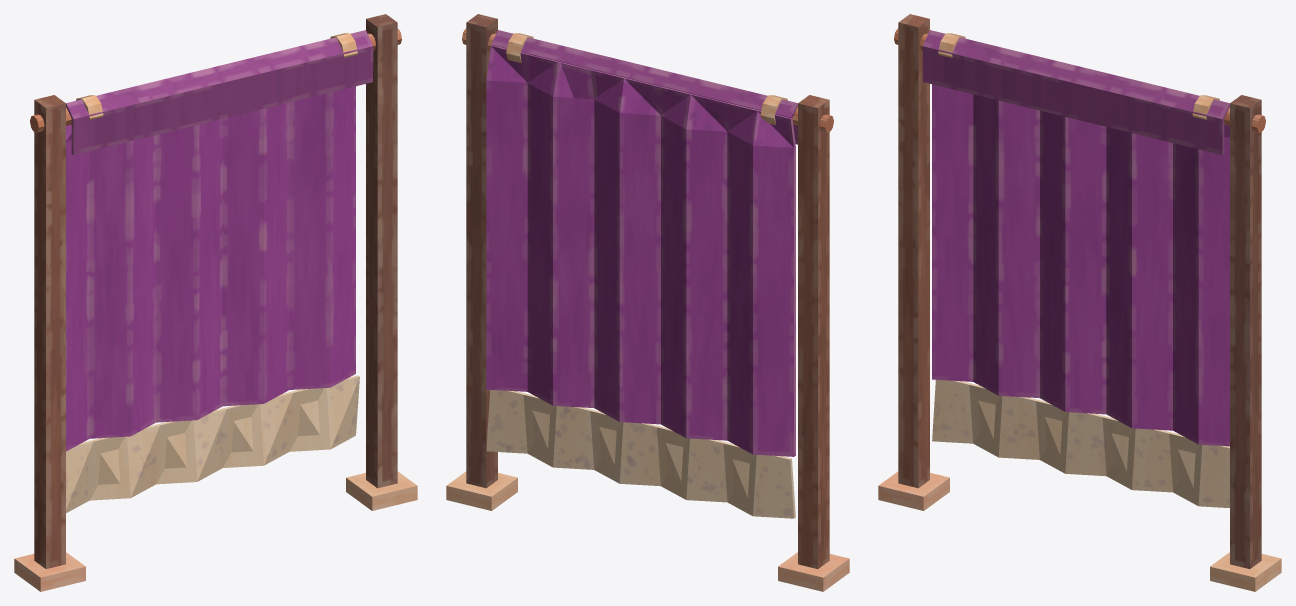
The model's file is rack_plum.bundle.fbx.
The picture shows the model from 3 angles, left to right: view 1: azimuth 30°, elevation 25°; view 2: azimuth 150°, elevation 25°; view 3: azimuth 330°, elevation 25°; orthographic projection.
Parts seen in each view (by area): view 1: rack_plum, rack_plum_low, rack_plum_s03, rack_plum_s02, rack_plum_s00, rack_plum_s01; view 2: rack_plum, rack_plum_low, rack_plum_s03, rack_plum_s00, rack_plum_s02, rack_plum_s01; view 3: rack_plum, rack_plum_s03, rack_plum_low, rack_plum_s00, rack_plum_s02, rack_plum_s01.
Part boxes in pixels (box(x1,y1,x2,y2)): rack_plum: box(15, 15, 415, 589); rack_plum_low: box(14, 14, 417, 591); rack_plum_s03: box(72, 198, 355, 483); rack_plum_s02: box(245, 30, 399, 360); rack_plum_s00: box(35, 46, 305, 209); rack_plum_s01: box(66, 209, 138, 493); rack_plum: box(448, 15, 833, 589); rack_plum_low: box(446, 14, 849, 591); rack_plum_s03: box(486, 209, 782, 440); rack_plum_s00: box(560, 50, 825, 219); rack_plum_s02: box(464, 30, 614, 375); rack_plum_s01: box(714, 214, 795, 456); rack_plum: box(880, 15, 1280, 589); rack_plum_s03: box(943, 141, 1229, 459); rack_plum_low: box(878, 14, 1281, 591); rack_plum_s00: box(896, 30, 1165, 207); rack_plum_s02: box(1111, 87, 1263, 380); rack_plum_s01: box(932, 136, 1011, 452).
Size of the model in its own units: 8.3 by 10 by 1.
1 material, 1 textured.
